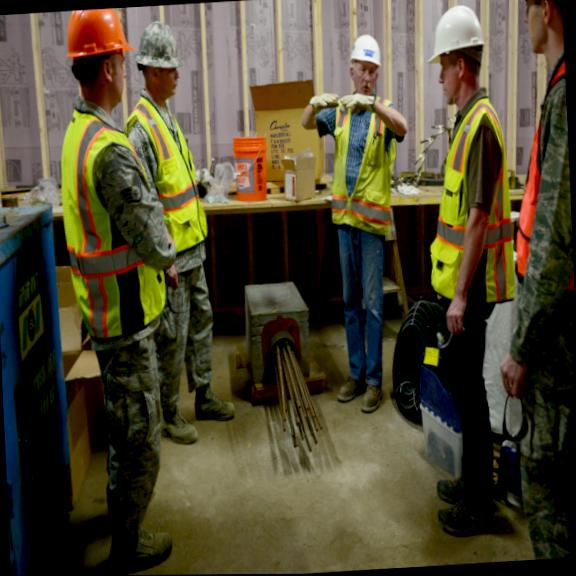safety_vest: (49, 89, 173, 338), (505, 36, 576, 297), (119, 84, 216, 274), (436, 89, 514, 311), (322, 80, 403, 235)
